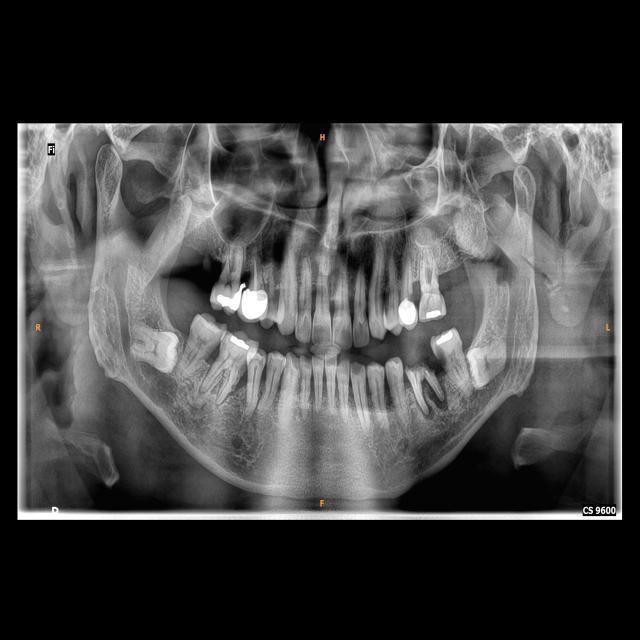dentin-curugu: (434, 346, 450, 368), (383, 285, 392, 315)
dolgu: (209, 283, 243, 319), (224, 332, 250, 354), (426, 304, 446, 322), (436, 330, 456, 346)
kanal-tedavisi: (247, 254, 264, 294), (412, 377, 426, 414), (428, 378, 443, 398)
kaplama: (240, 286, 268, 321), (397, 295, 419, 327)
kirik: (400, 356, 436, 378)
